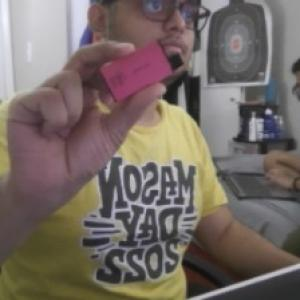Blume-E-Ciggirate: (96, 36, 186, 102)
